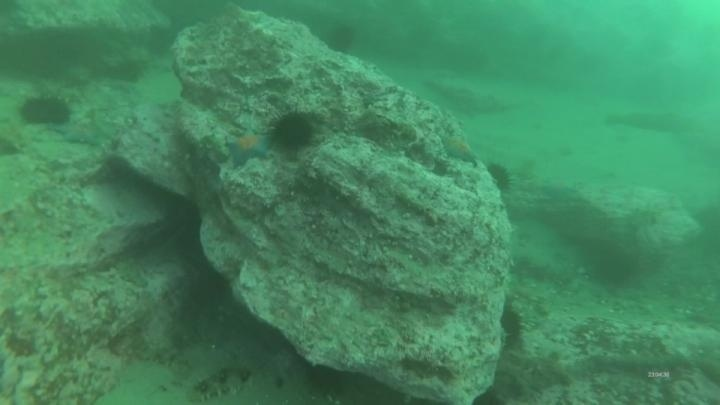echinus: (185, 264, 232, 313), (268, 108, 318, 154), (589, 246, 639, 289), (17, 92, 73, 129), (302, 362, 349, 401), (497, 303, 527, 347), (324, 22, 358, 55), (484, 160, 515, 195)
holothurian: (189, 362, 257, 402)
starfish: (224, 128, 273, 167), (55, 119, 107, 148), (439, 131, 481, 166), (538, 177, 582, 203)
